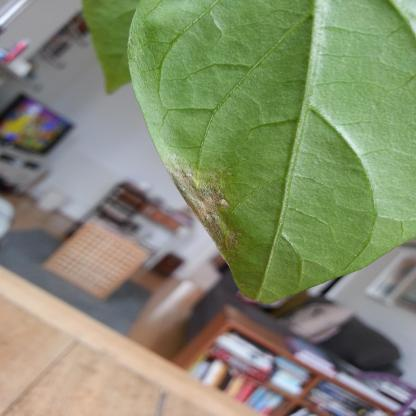bell pepper leaf spot: (122, 3, 413, 308)
